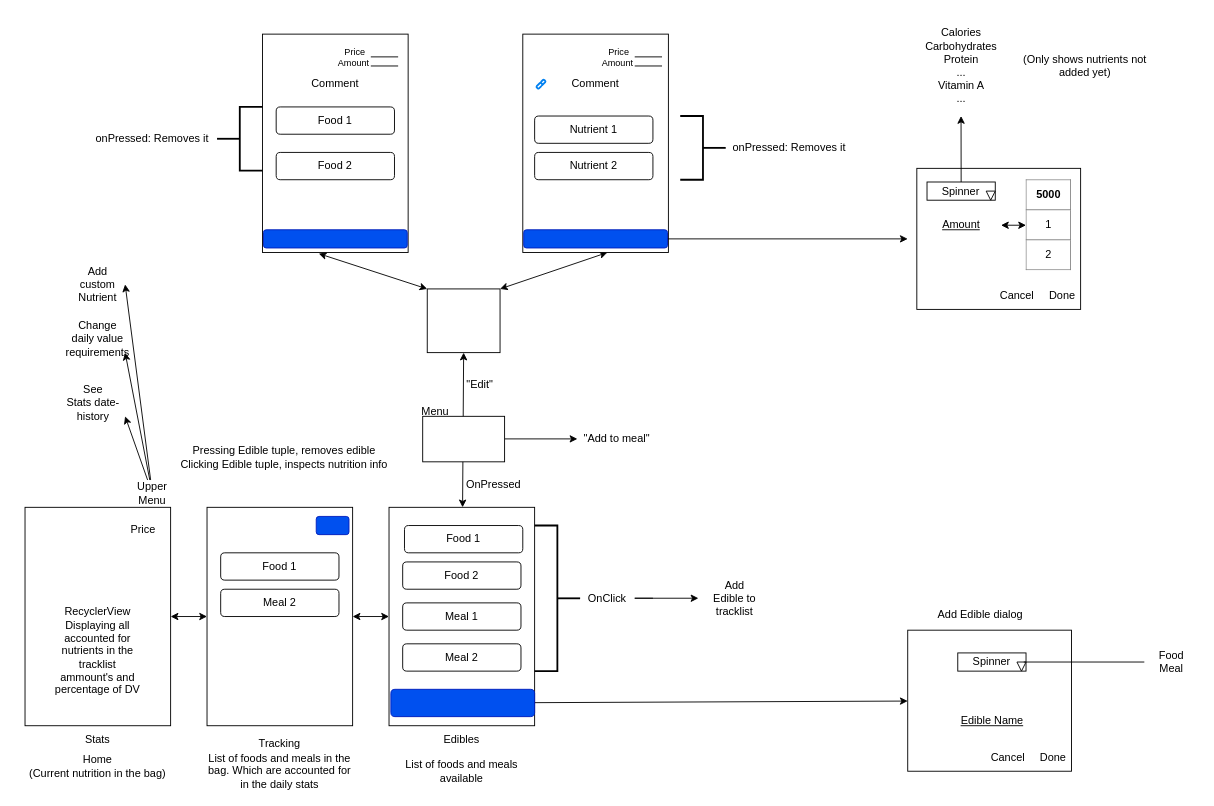
The diagram is 1214 pixels wide and 806 high, and some of its shapes have lost their labels. Here are the shapes that lost their labels. From the top down, the centre of each, then its label:
At point (335, 238): "Add Food".
At point (595, 238): "Add Nutrient".
At point (463, 320): "Nutritional information of a Food or meal".
At point (463, 438): "Edit Add to meal".
At point (332, 525): "Reset".
At point (462, 702): "Add Edible".
